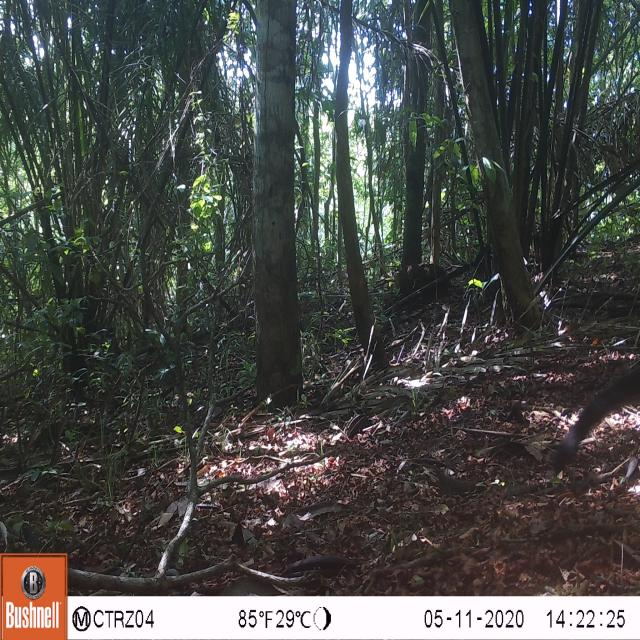Tayra: (567, 334, 639, 439)
